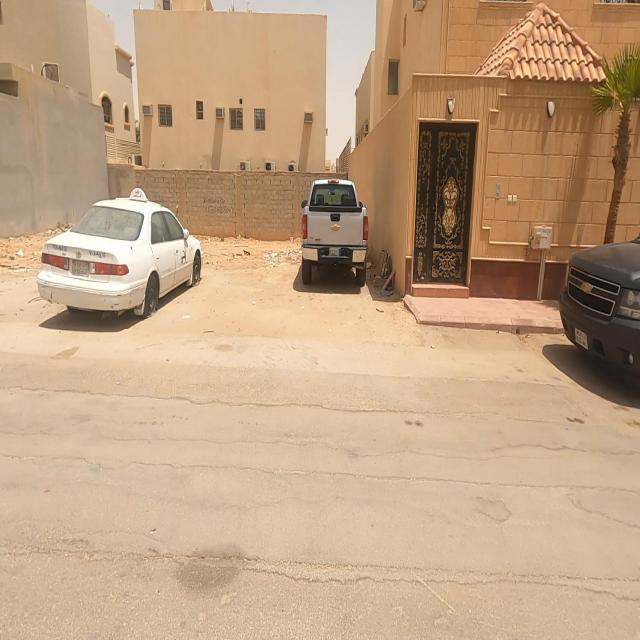Graffiti: (203, 194, 233, 217)
